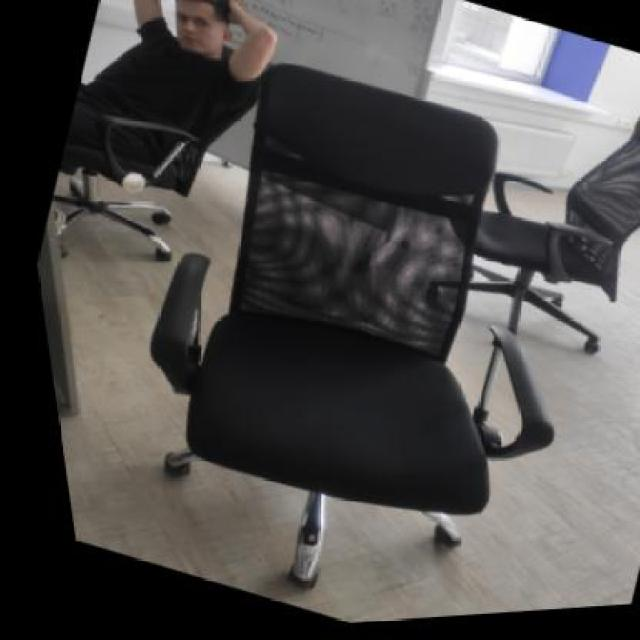chair: (136, 57, 532, 584), (352, 30, 638, 412), (5, 0, 308, 315)
